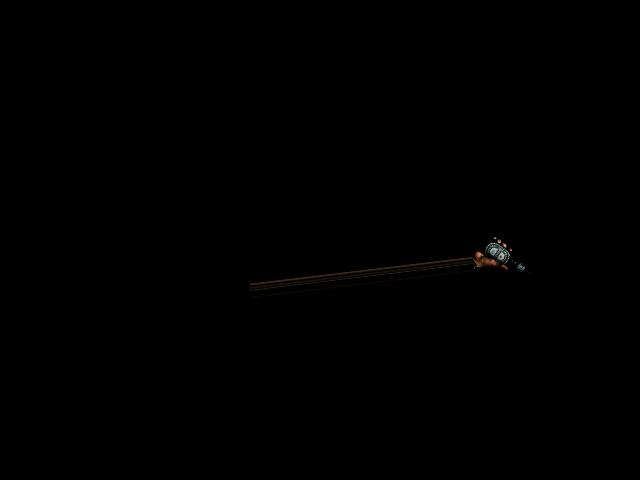beer: (475, 232, 532, 282)
